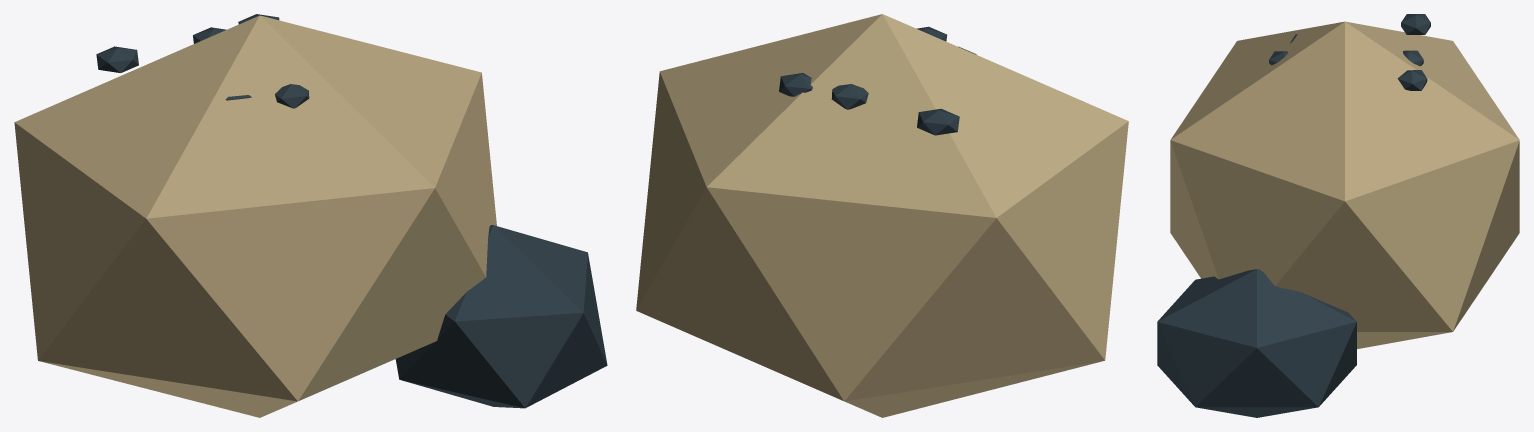
File: Rock3.fbx
3 views of the same model, side by side, from view 1: azimuth 30°, elevation 25°; view 2: azimuth 150°, elevation 25°; view 3: azimuth 270°, elevation 25° (orthographic). The views are drawn at different scales.
Parts seen in each view (by area): view 1: Rock3_Mesh; view 2: Rock3_Mesh; view 3: Rock3_Mesh.
Part boxes in pixels (box(x1,y1,x2,y2)): Rock3_Mesh: box(14, 14, 607, 417); Rock3_Mesh: box(636, 14, 1128, 417); Rock3_Mesh: box(1157, 14, 1519, 417).
Size of the model in its own units: 0.7998 by 0.62 by 0.6179.
